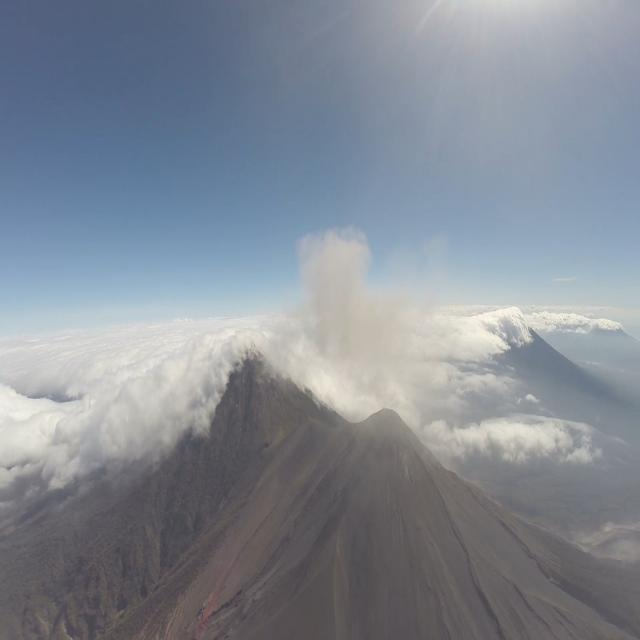Plume: (284, 216, 462, 388)
Summit: (329, 407, 450, 482)
